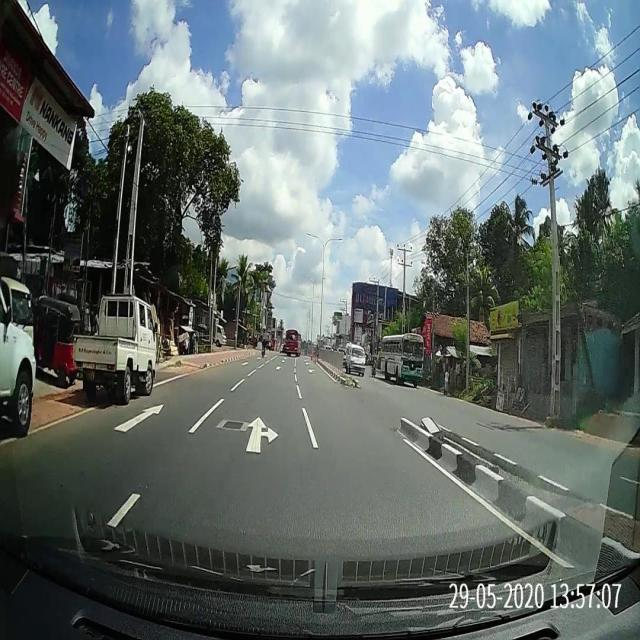Strelka vpered: (110, 404, 166, 435)
Strelka vpered - vpravo: (244, 414, 280, 456)
